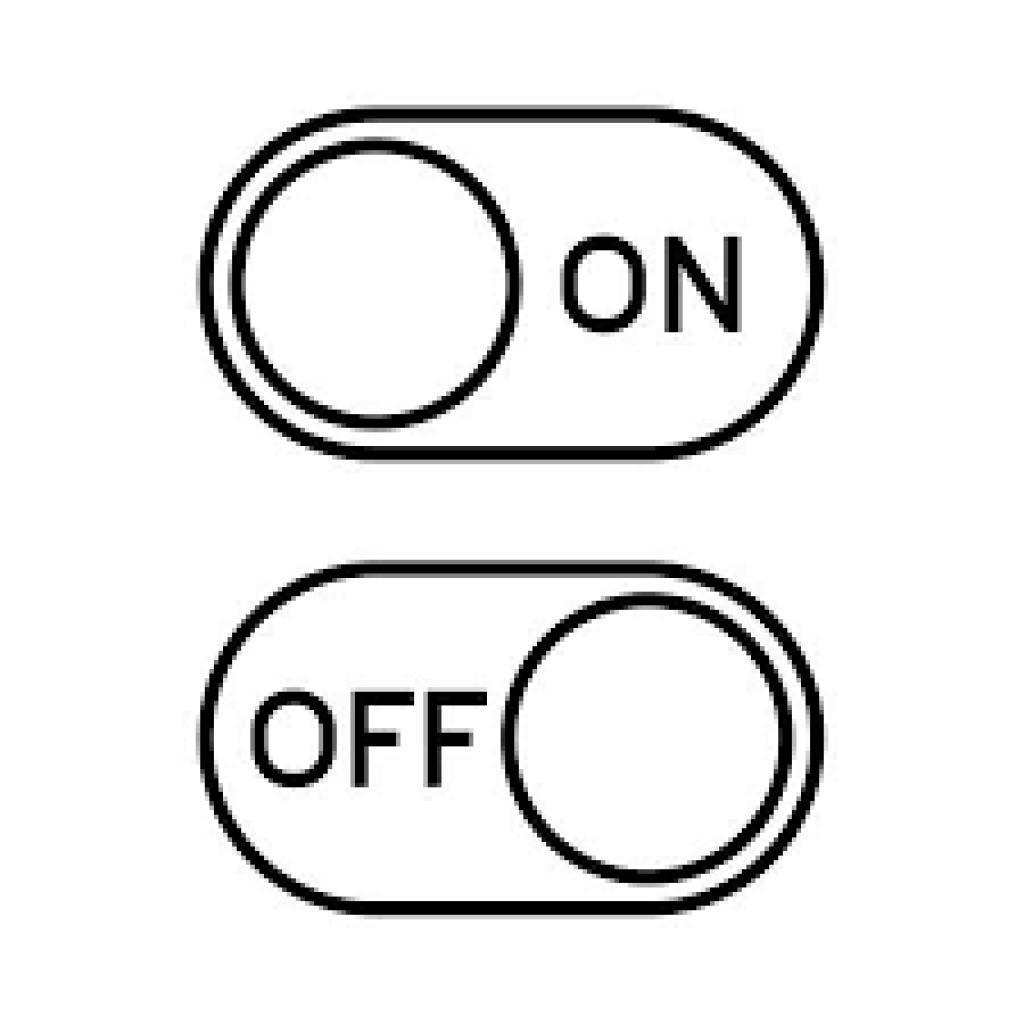switch: (187, 552, 834, 931), (191, 103, 836, 477)
